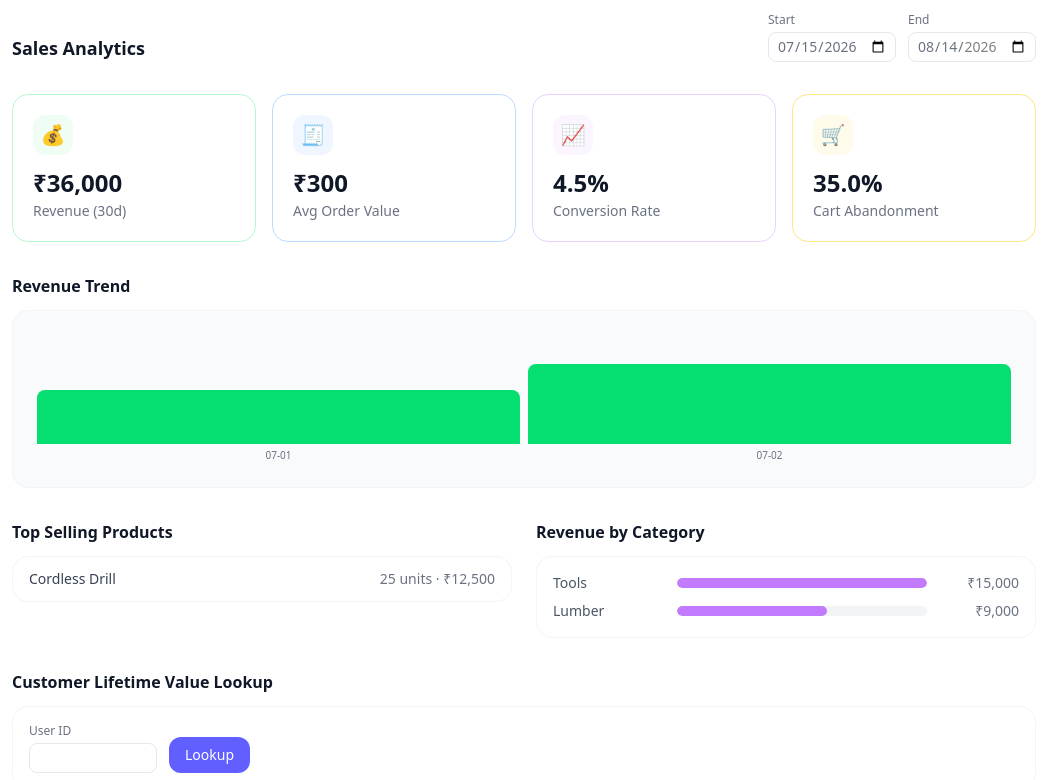
Test: SalesAnalyticsTab › shows a validation error for an invalid user ID
expect the text "Cordless Drill" is shown: met, box top-left (29, 569), bottom-right (116, 589)
Click the button "Lookup": coordinates (210, 755) top-left (169, 737), bottom-right (250, 773)
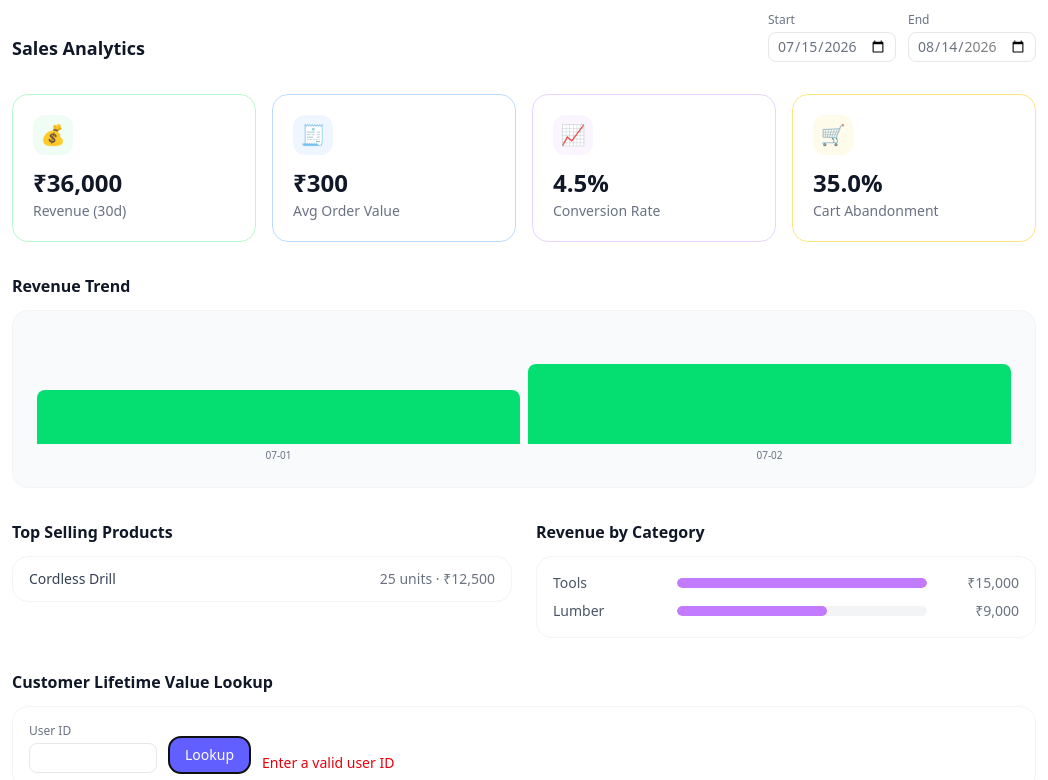
expect the text "Enter a valid user ID" is shown: met, box top-left (262, 753), bottom-right (394, 773)
